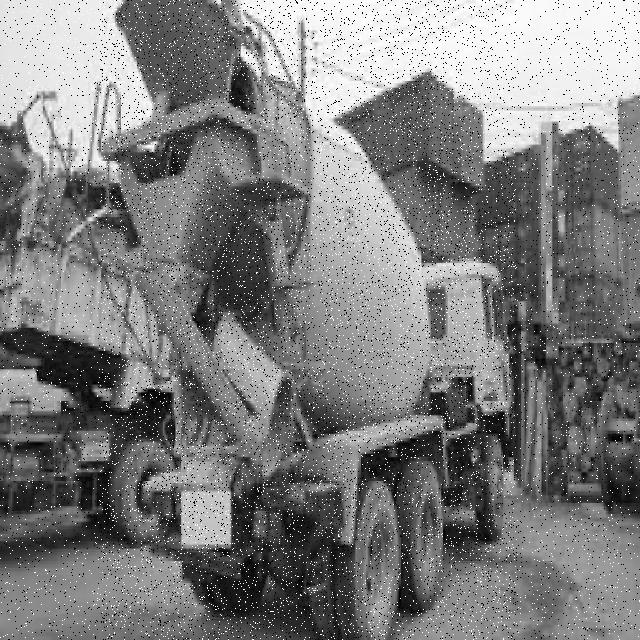Concrete Mixer: (100, 0, 516, 640)
